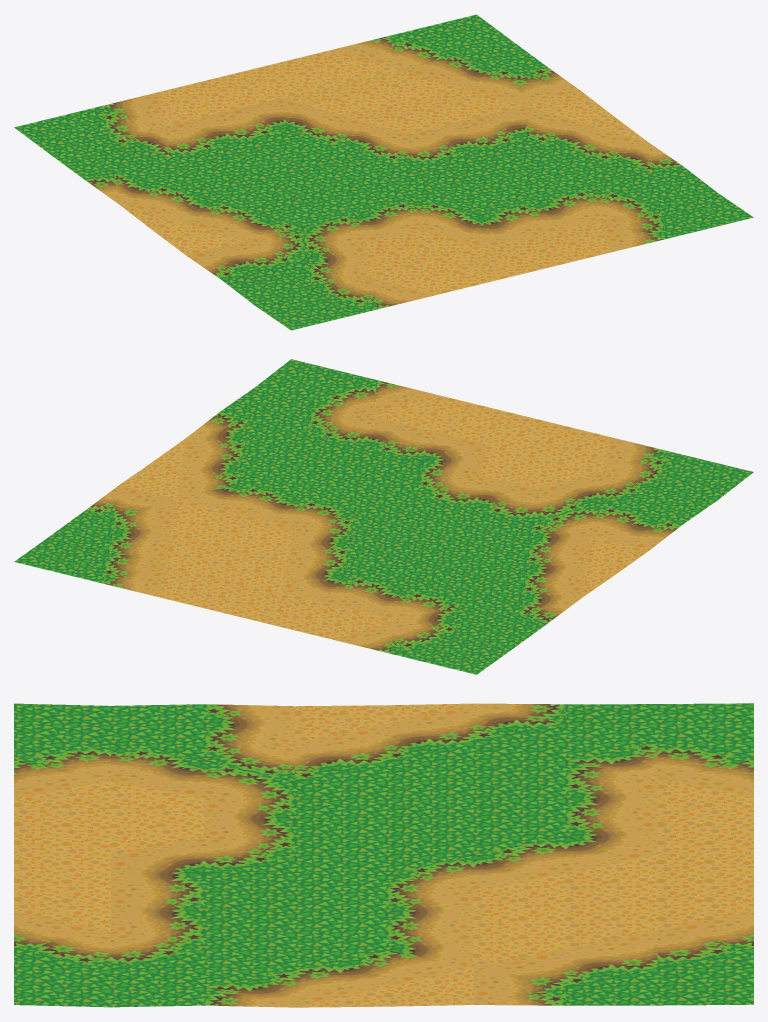
Rendered from c_grd_f_1.002.glb.
The picture shows the model from 3 angles, top to bottom: view 1: azimuth 30°, elevation 25°; view 2: azimuth 150°, elevation 25°; view 3: azimuth 270°, elevation 25°; orthographic projection. The views are drawn at different scales.
Parts seen in each view (by area): view 1: c_grd_f_1.002; view 2: c_grd_f_1.002; view 3: c_grd_f_1.002.
Boxes of the visible parts, <box> form: c_grd_f_1.002: <box>14,14,753,330</box>; c_grd_f_1.002: <box>14,359,753,674</box>; c_grd_f_1.002: <box>14,703,753,1007</box>.
Size of the model in its own units: 32 by 0.1406 by 33.2.
Materials: 3 (3 with a texture image).
